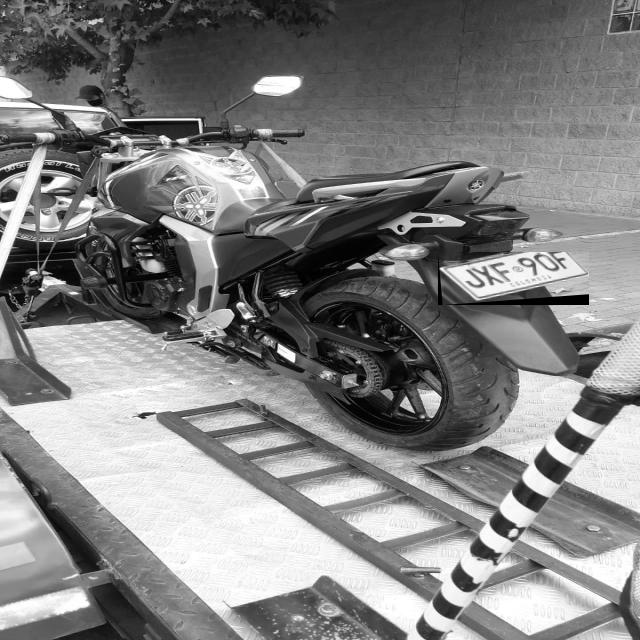plate: (440, 252, 589, 304)
